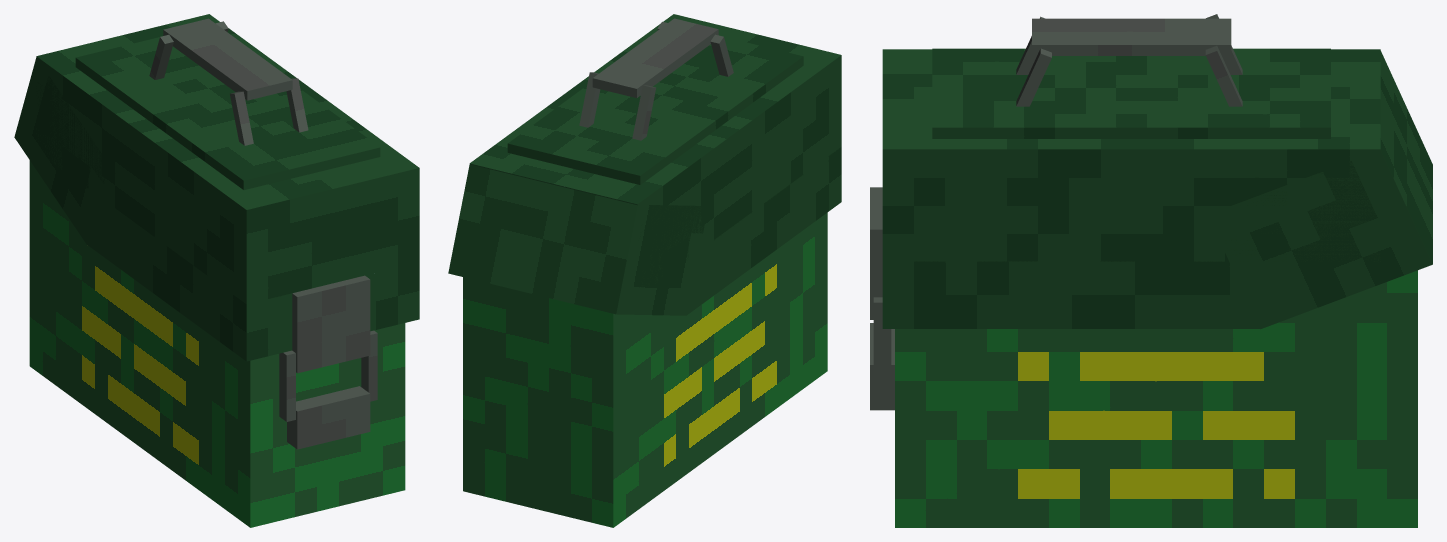
The model's file is Ammo AK.fbx.
The picture shows the model from 3 angles, left to right: view 1: azimuth 30°, elevation 25°; view 2: azimuth 150°, elevation 25°; view 3: azimuth 270°, elevation 25°; orthographic projection. The views are drawn at different scales.
Parts seen in each view (by area): view 1: cube, cube_3, cube_4, cube_2, cube_1, cube_10, cube_9, cube_11, cube_13, cube_12, cube_6, cube_5 (+1 smaller); view 2: cube, cube_1, cube_3, cube_4, cube_2, cube_9, cube_7, cube_8, cube_6; view 3: cube, cube_3, cube_4, cube_1, cube_2, cube_9, cube_10, cube_12, cube_11, cube_8, cube_5.
Boxes of the visible parts, box(x1,y1,x2,y2) form: cube: box(29, 160, 405, 527); cube_3: box(36, 14, 419, 304); cube_4: box(75, 37, 380, 189); cube_2: box(87, 188, 419, 361); cube_1: box(14, 57, 108, 245); cube_10: box(292, 275, 370, 373); cube_9: box(163, 18, 292, 100); cube_11: box(287, 386, 370, 449); cube_13: box(279, 350, 295, 421); cube_12: box(361, 330, 377, 401); cube_6: box(230, 91, 253, 145); cube_5: box(286, 78, 308, 132); cube: box(463, 212, 827, 527); cube_1: box(448, 164, 708, 315); cube_3: box(469, 14, 841, 287); cube_4: box(507, 37, 803, 184); cube_2: box(686, 147, 841, 314); cube_9: box(592, 18, 718, 97); cube_7: box(632, 85, 655, 140); cube_8: box(579, 72, 600, 127); cube_6: box(710, 34, 733, 76); cube: box(895, 270, 1417, 527); cube_3: box(882, 49, 1380, 261); cube_4: box(932, 48, 1330, 138); cube_1: box(1208, 51, 1432, 329); cube_2: box(882, 261, 1261, 328); cube_9: box(1032, 18, 1231, 55); cube_10: box(870, 187, 882, 319); cube_12: box(873, 297, 891, 381); cube_11: box(870, 323, 894, 410); cube_8: box(1205, 45, 1242, 106); cube_5: box(1016, 48, 1051, 106).
Size of the model in its own units: 11.88 by 25 by 28.24.
1 material, 1 textured.
